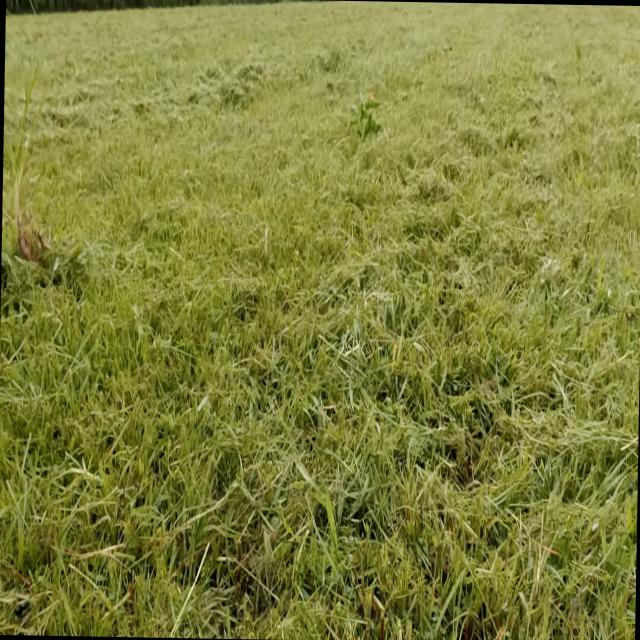grass: (0, 1, 640, 640)
